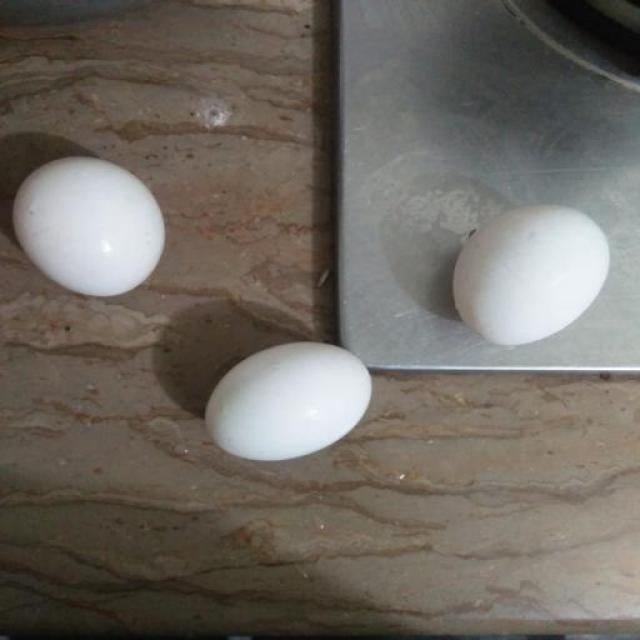telur: (451, 205, 610, 346), (12, 158, 167, 297), (206, 342, 371, 462)
